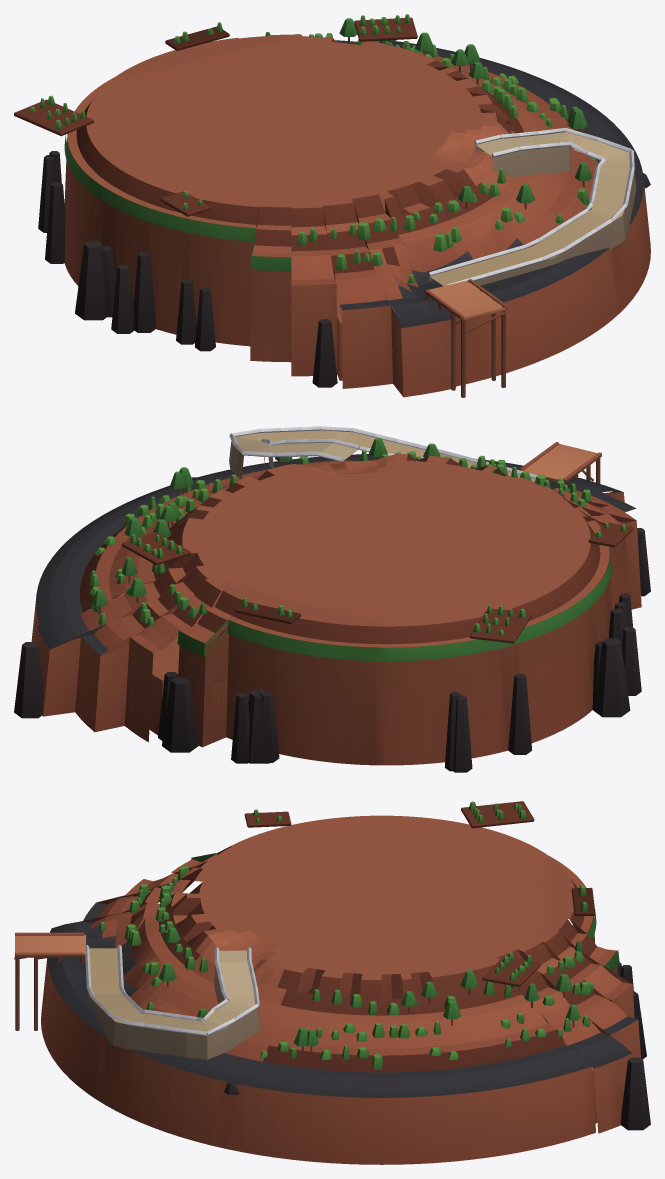
File: spice-isles-body.glb
3 views of the same model, one above another, from view 1: azimuth 30°, elevation 25°; view 2: azimuth 150°, elevation 25°; view 3: azimuth 270°, elevation 25° (orthographic). The views are drawn at different scales.
Visible parts, largest first — view 1: body; view 2: body; view 3: body.
Boxes of the visible parts, x1,y1,x2,y2 form: body: [14, 14, 650, 397]; body: [14, 426, 650, 772]; body: [14, 801, 650, 1164].
Bounding box in the file's own units: 25.34 × 6.39 × 27.46.
